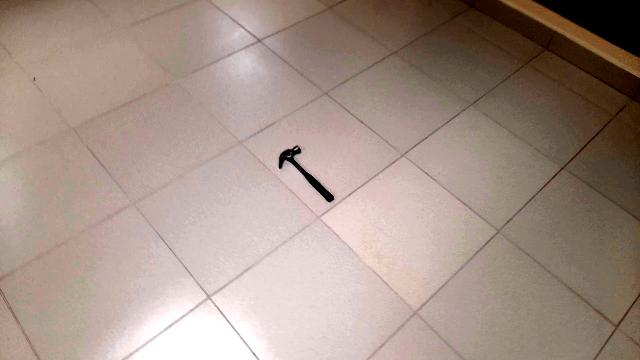hammer: (264, 140, 342, 208)
